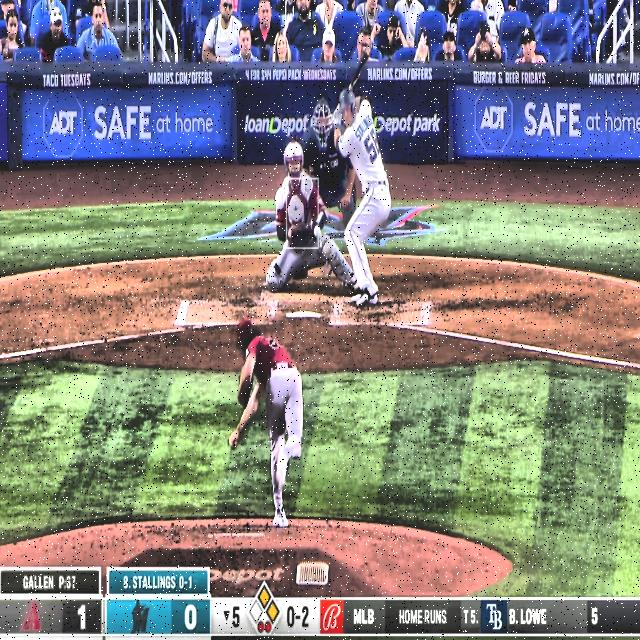baseball: (313, 224, 321, 239)
